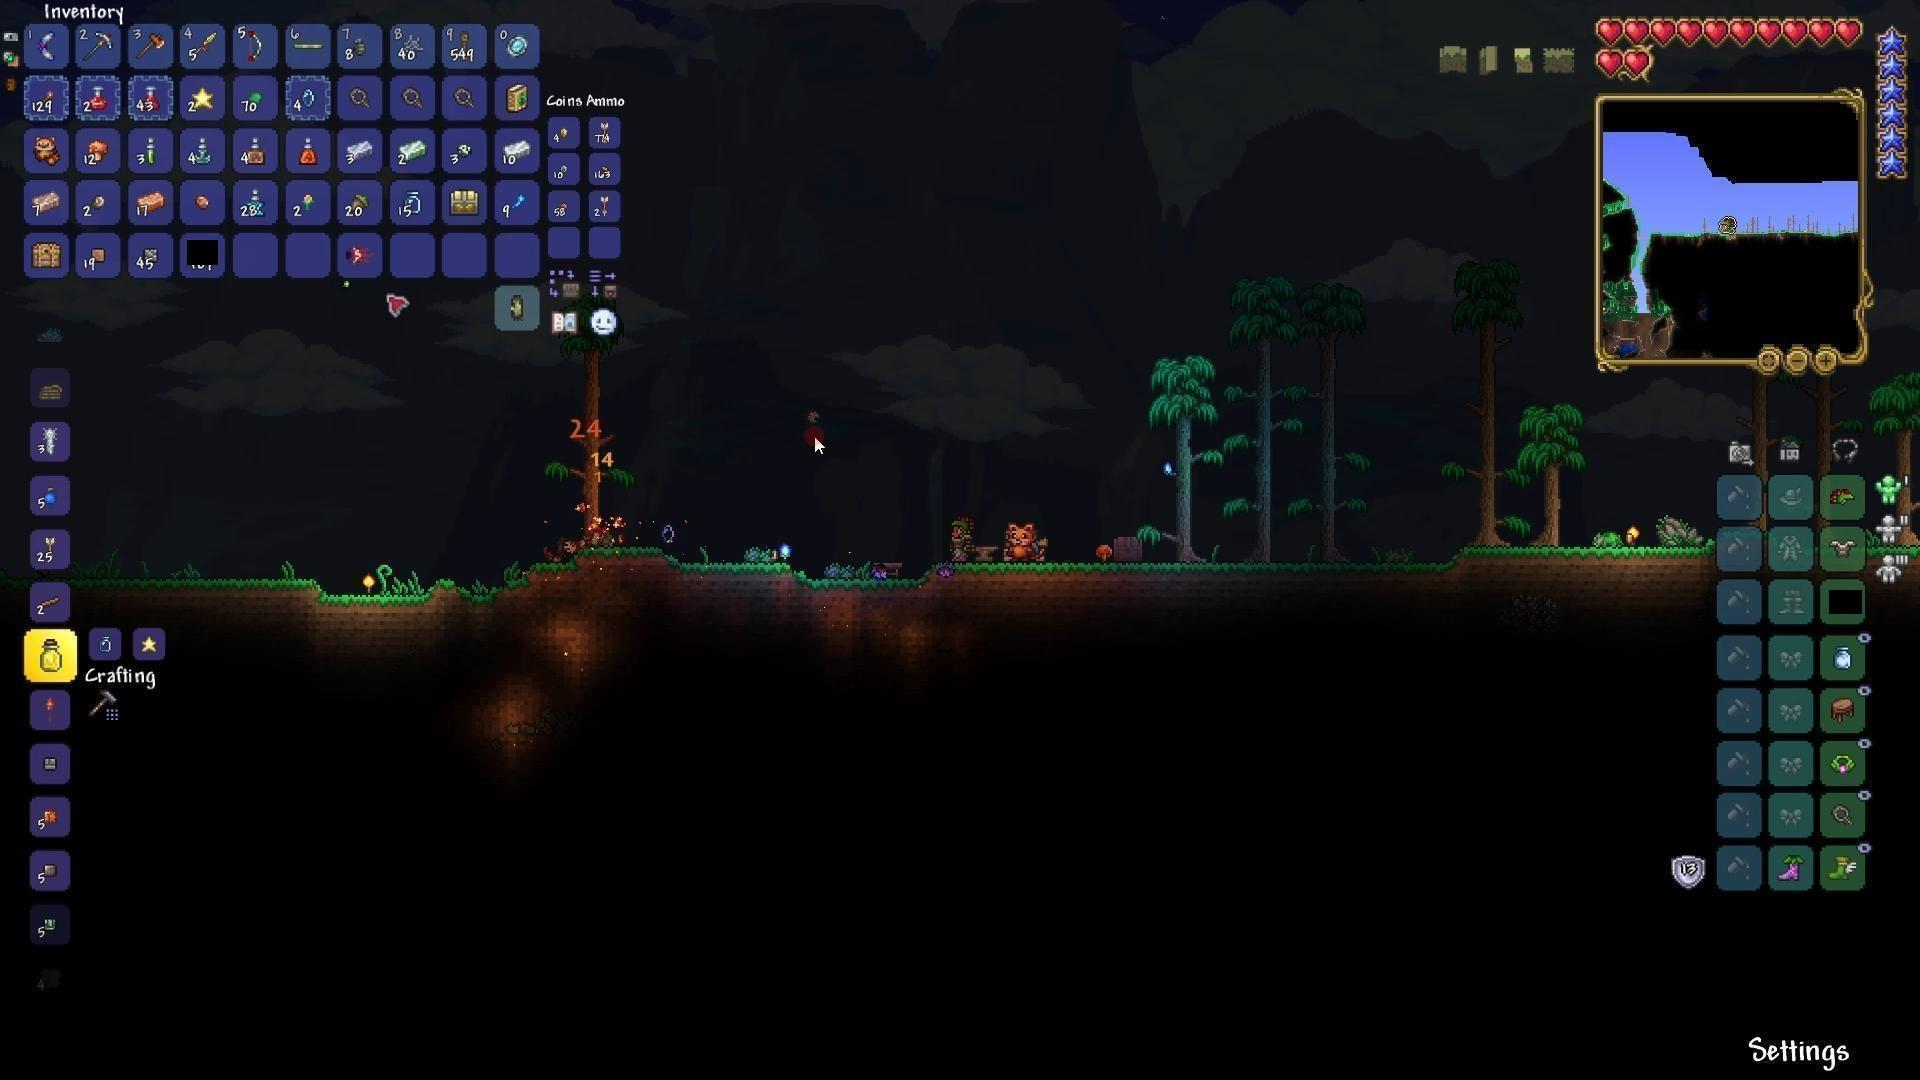breastplate: (1826, 538, 1862, 563)
